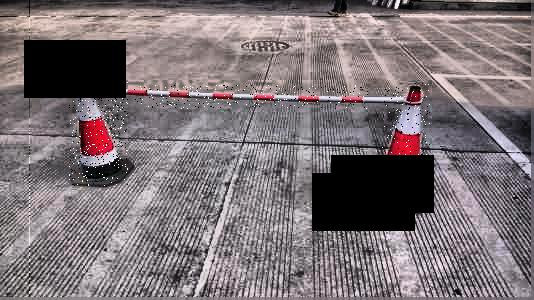bench: (134, 85, 370, 110)
camera: (69, 71, 129, 188), (382, 83, 431, 203)
